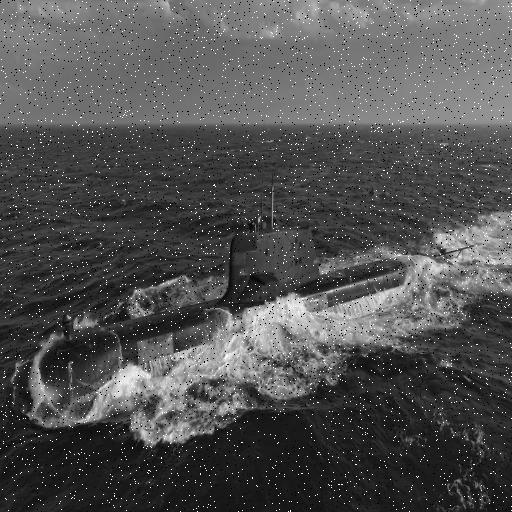submarine: (33, 217, 477, 428)
